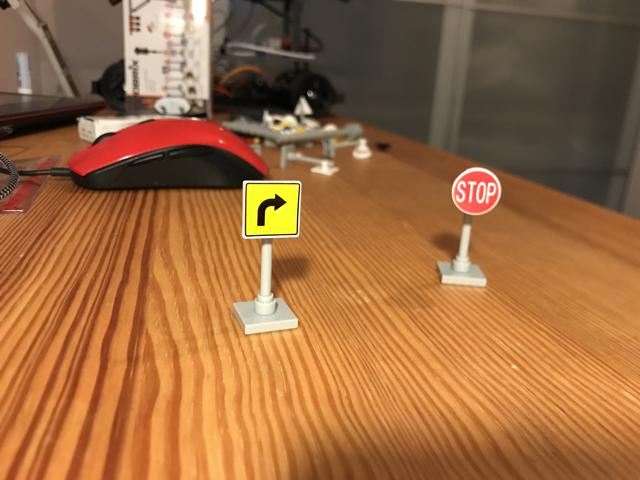fahrtrichtung rechts: (241, 179, 303, 241)
stop: (450, 165, 502, 217)
